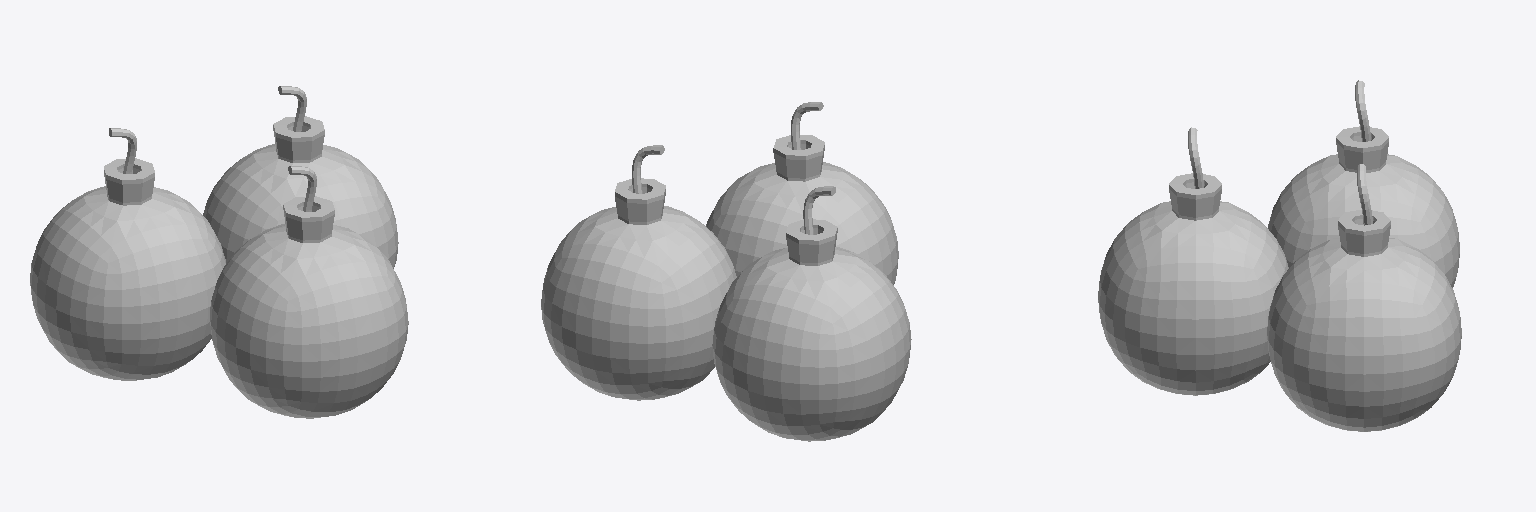
Rendered from bombe_up.obj.
The picture shows the model from 3 angles: view 1: azimuth 30°, elevation 25°; view 2: azimuth 150°, elevation 25°; view 3: azimuth 270°, elevation 25°; orthographic projection.
Parts seen in each view (by area): view 1: Bomb.002, Bomb.001, Bomb; view 2: Bomb.001, Bomb, Bomb.002; view 3: Bomb, Bomb.002, Bomb.001.
Part boxes in pixels (x1,y1,x2,y2): Bomb.002: (210, 166, 408, 418); Bomb.001: (30, 128, 225, 380); Bomb: (203, 86, 398, 268); Bomb.001: (712, 186, 911, 441); Bomb: (541, 145, 736, 400); Bomb.002: (706, 102, 898, 284); Bomb: (1267, 164, 1461, 431); Bomb.002: (1098, 127, 1288, 395); Bomb.001: (1268, 80, 1459, 287).
Bounding box in the file's own units: 0.6028 × 0.4211 × 0.5596.